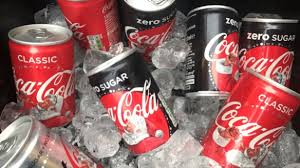can: (212, 61, 295, 168), (93, 37, 168, 151), (7, 19, 79, 124), (188, 7, 234, 102)
